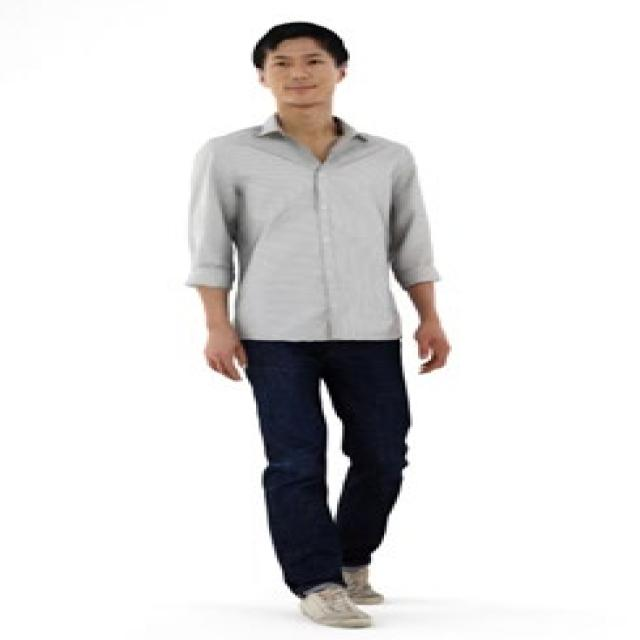standing: (179, 21, 456, 640)
